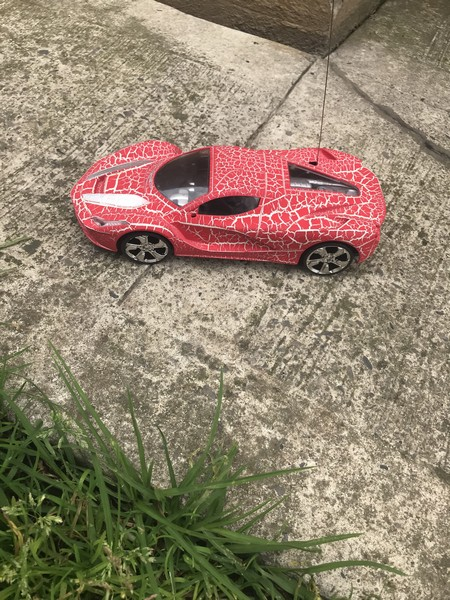RC: (71, 142, 387, 279)
